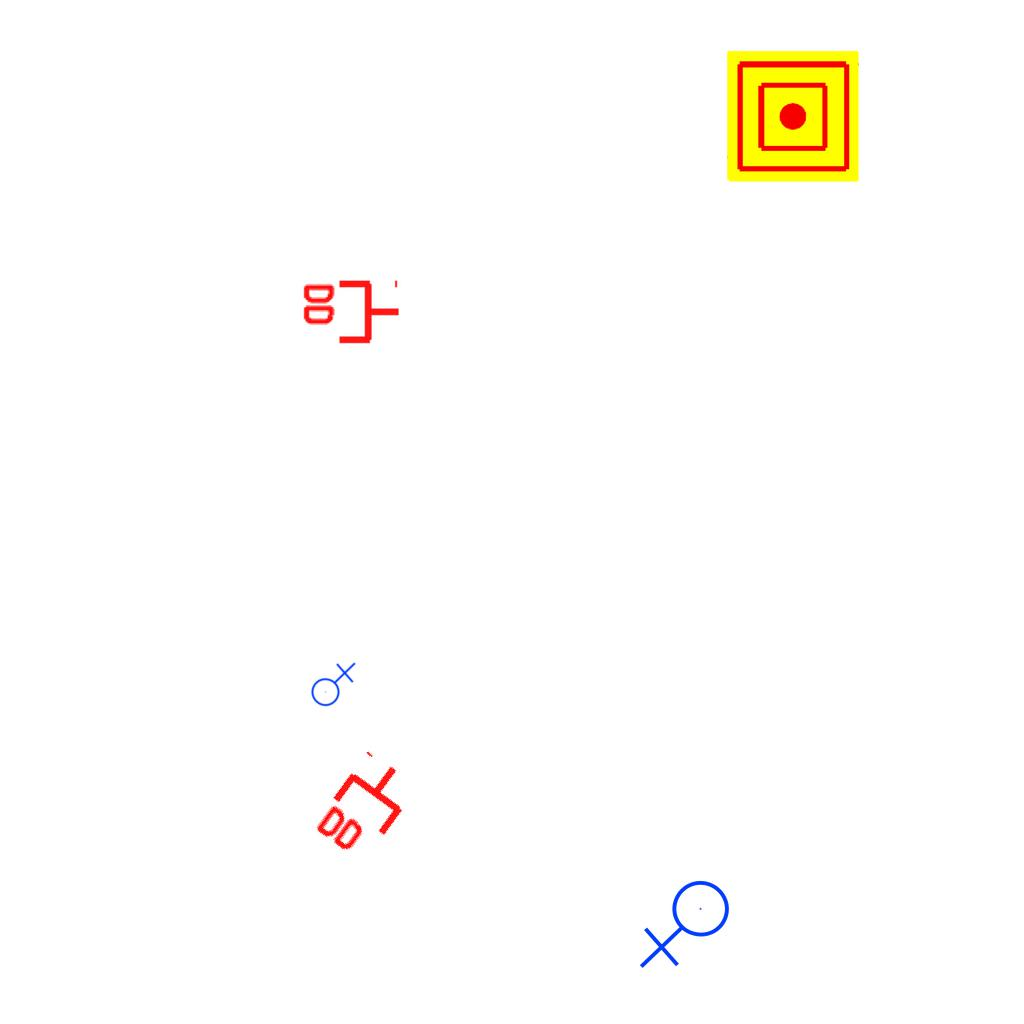Datenanschluss_zweifach: (308, 746, 425, 871), (299, 279, 402, 348)
Elektroanschluss_allgemein_230V_Geraeteanschlussdose_230V: (639, 879, 738, 973), (307, 660, 356, 707)
NAM-Nichtautomatischer_Melder: (727, 50, 859, 182)
